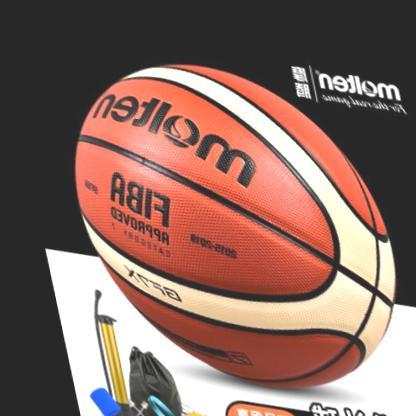basketball: (43, 30, 414, 407)
